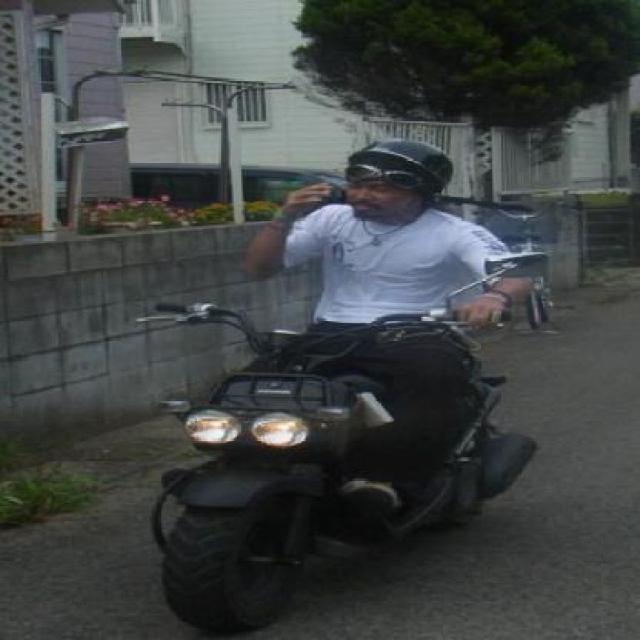helmet: (332, 135, 459, 233)
motorcycle: (123, 133, 575, 640)
